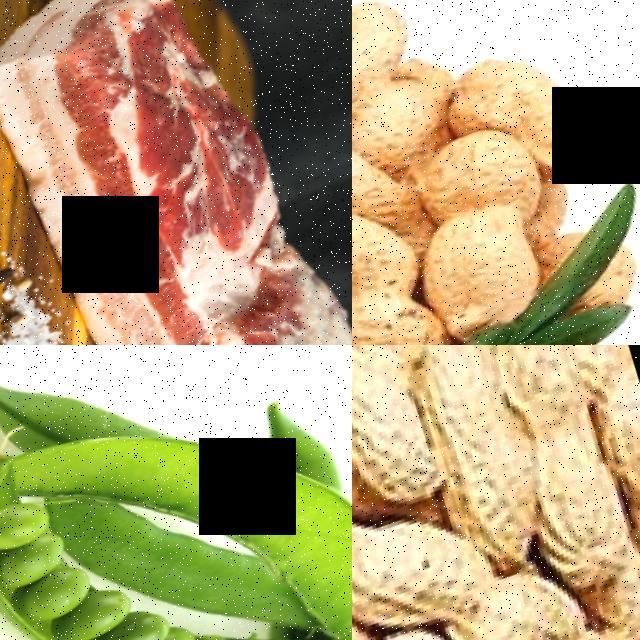peanuts: (372, 345, 582, 564), (486, 7, 640, 191), (352, 475, 513, 640), (406, 185, 570, 342), (410, 105, 558, 237), (352, 185, 463, 345), (448, 545, 612, 640), (352, 0, 433, 111), (364, 602, 528, 640)
peas: (0, 465, 165, 640), (0, 563, 303, 640)
pork belly: (0, 0, 339, 342), (74, 213, 352, 345)
